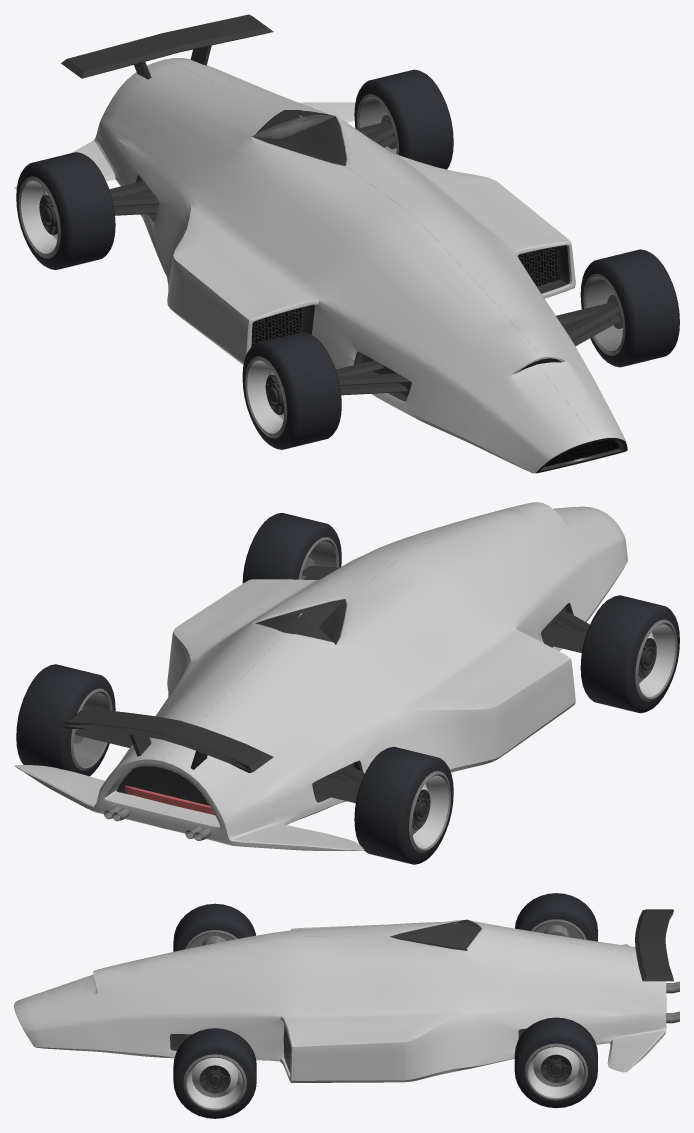
The model's file is Car.fbx.
3 renders of one model, top to bottom at view 1: azimuth 30°, elevation 25°; view 2: azimuth 150°, elevation 25°; view 3: azimuth 270°, elevation 25°, orthographic. The views are drawn at different scales.
Parts seen in each view (by area): view 1: Body, Wheels.003, Wheels.001, Wheels.002, Wheels.004, Spoiler, Suspension.001, Suspension.004, Suspension.002, Suspension.003; view 2: Body, Wheels.003, Wheels.001, Wheels.004, Spoiler, Wheels.002, Suspension.001, Suspension.003, Suspension.004, Light; view 3: Body, Wheels.002, Wheels.004, Wheels.003, Wheels.001, Spoiler.
Boxes of the visible parts, x1,y1,x2,y2 form: Body: (14,58,627,473); Wheels.003: (16,152,115,269); Wheels.001: (242,332,341,449); Wheels.002: (580,249,679,367); Wheels.004: (354,69,453,169); Spoiler: (61,14,273,79); Suspension.001: (336,302,620,385); Suspension.004: (109,121,394,206); Suspension.002: (340,314,620,395); Suspension.003: (114,134,395,215); Body: (14,502,627,850); Wheels.003: (354,746,453,864); Wheels.001: (580,595,679,713); Wheels.004: (16,664,115,776); Spoiler: (61,709,273,772); Wheels.002: (242,513,341,583); Suspension.001: (302,566,589,643); Suspension.003: (75,729,359,803); Suspension.004: (94,730,364,794); Light: (125,785,214,814); Body: (14,919,666,1082); Wheels.002: (173,1028,256,1118); Wheels.004: (514,1017,597,1108); Wheels.003: (515,893,597,941); Wheels.001: (173,903,255,951); Spoiler: (635,909,673,981).
Bounding box in the file's own units: 129 × 52.38 × 252.
Materials: 1 (1 with a texture image).
